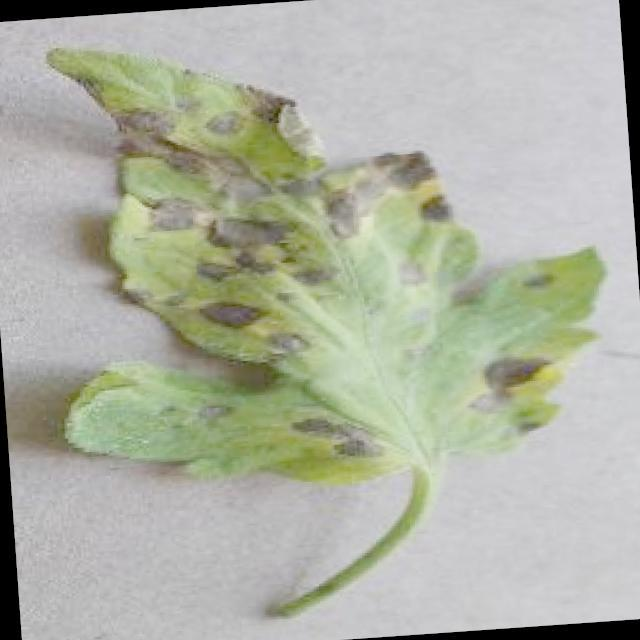Tomato Early blight leaf: (32, 8, 622, 508)
